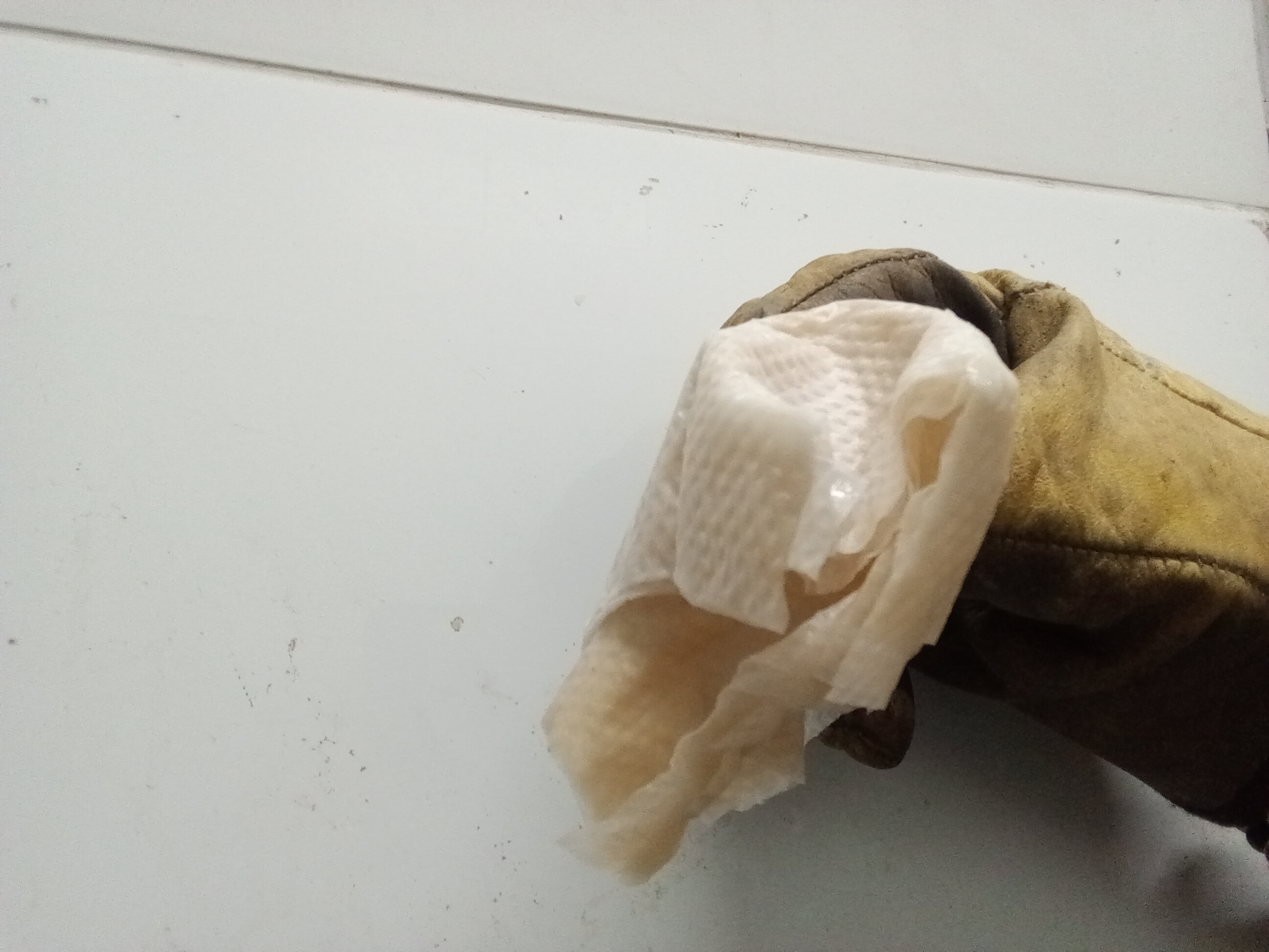Ordinario: (542, 296, 1022, 887)
